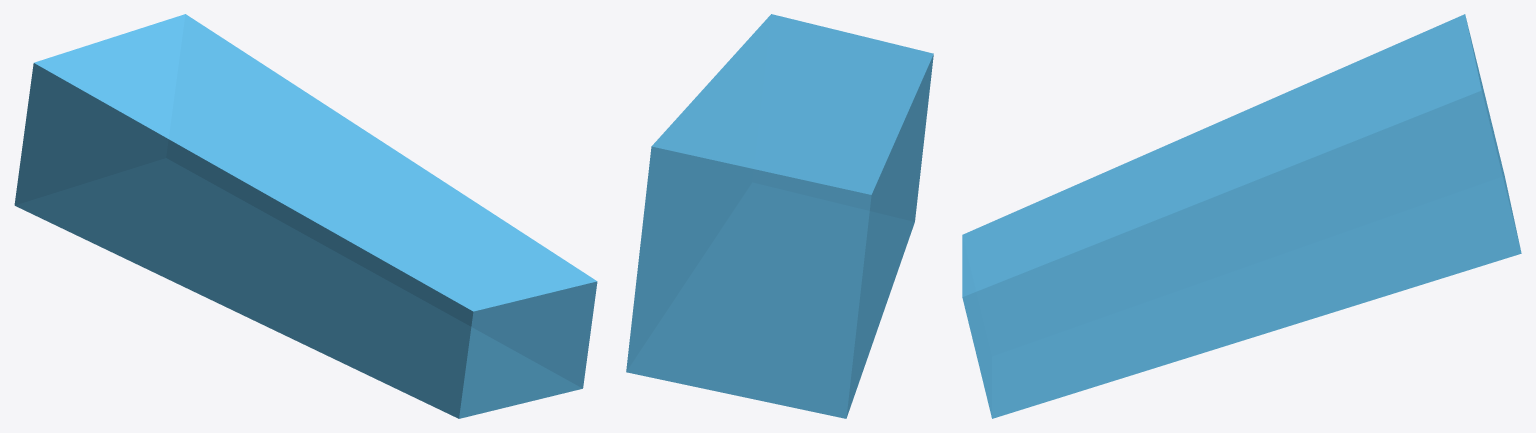
Rendered from Event_421127236_HBrechit_3.fbx.
The picture shows the model from 3 angles, left to right: view 1: azimuth 30°, elevation 25°; view 2: azimuth 150°, elevation 25°; view 3: azimuth 270°, elevation 25°; orthographic projection. The views are drawn at different scales.
Parts seen in each view (by area): view 1: Model; view 2: Model; view 3: Model.
Part boxes in pixels (left/top/right/bottom): Model: left=14, top=14, right=597, bottom=418; Model: left=626, top=14, right=933, bottom=418; Model: left=962, top=14, right=1521, bottom=418.
Bounding box in the file's own units: 1.11 × 0.7987 × 1.63.
